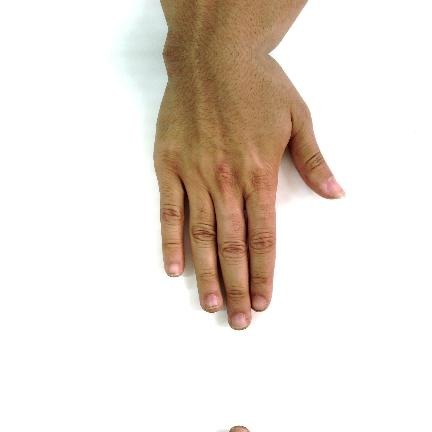Nail: (328, 176, 346, 198), (230, 313, 249, 330), (252, 295, 267, 312), (206, 294, 221, 310), (166, 263, 181, 277), (230, 426, 249, 432)
